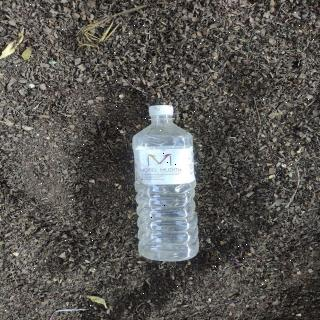Plastic-bottle: (127, 100, 205, 265)
